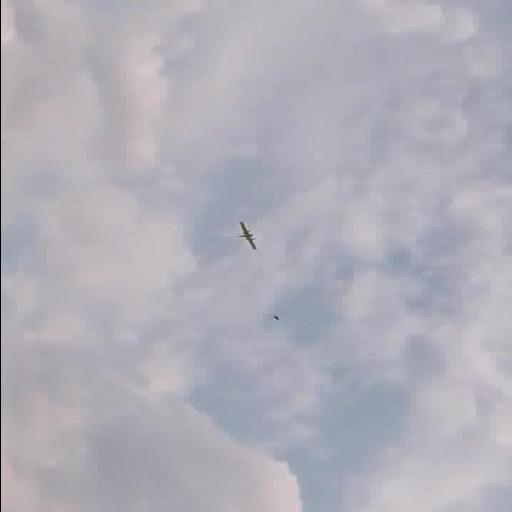uav: (230, 218, 262, 252)
